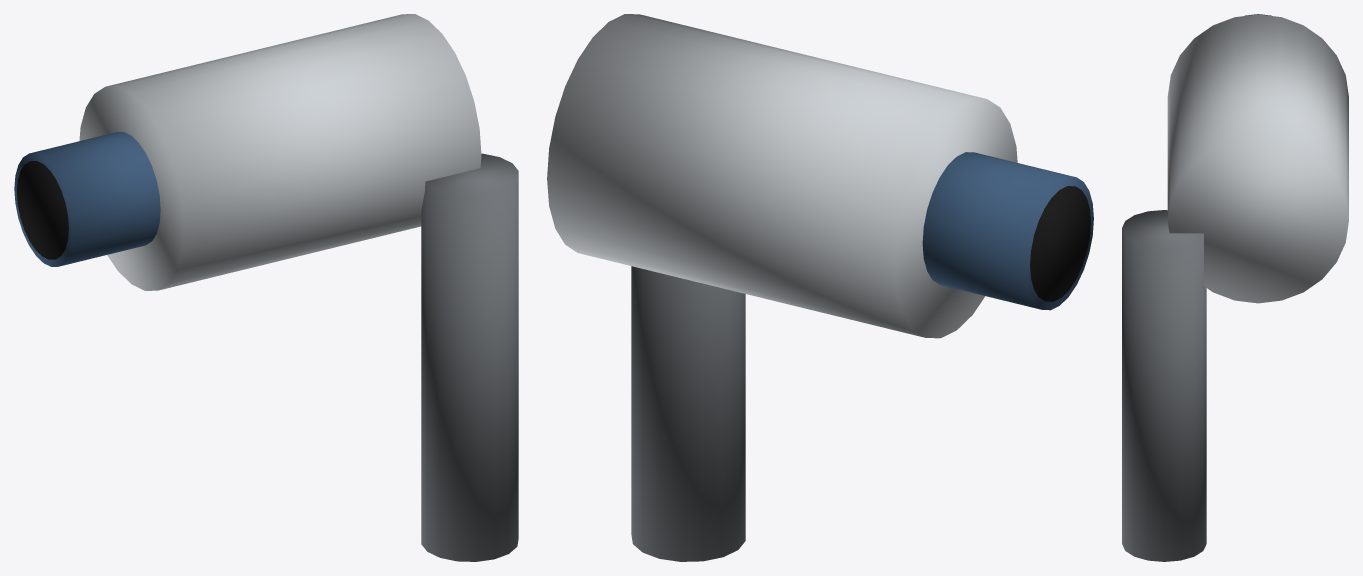
The model's file is exhaust_taniguchi_compe_r.glb.
3 views of the same model, side by side, from view 1: azimuth 30°, elevation 25°; view 2: azimuth 150°, elevation 25°; view 3: azimuth 270°, elevation 25° (orthographic). The views are drawn at different scales.
Visible parts, largest first — view 1: bullet, down, tip, tipMouth; view 2: bullet, down, tip, tipMouth; view 3: bullet, down.
Part boxes in pixels (box(x1,y1,x2,y2)): bullet: box(79, 14, 481, 290); down: box(421, 153, 518, 561); tip: box(14, 132, 160, 266); tipMouth: box(17, 161, 68, 259); bullet: box(547, 14, 1017, 338); down: box(631, 266, 745, 561); tip: box(922, 152, 1093, 310); tipMouth: box(1030, 186, 1090, 301); bullet: box(1167, 14, 1348, 303); down: box(1122, 210, 1206, 561).
Size of the model in its own units: 0.3075 by 0.3375 by 0.169.
